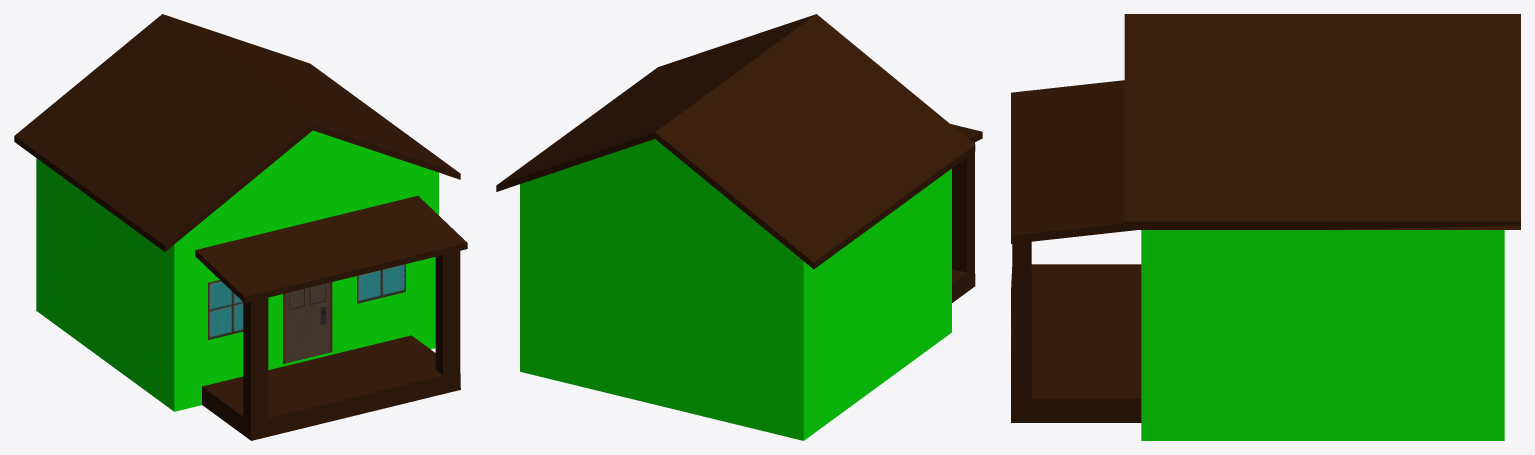
Rendered from 1FloorHouse.obj.
3 renders of one model, left to right at view 1: azimuth 30°, elevation 25°; view 2: azimuth 150°, elevation 25°; view 3: azimuth 270°, elevation 25°, orthographic. The views are drawn at different scales.
Parts seen in each view (by area): view 1: SP_TD_House; view 2: SP_TD_House; view 3: SP_TD_House.
Boxes of the visible parts, <box> form: SP_TD_House: <box>14,14,467,440</box>; SP_TD_House: <box>496,14,982,440</box>; SP_TD_House: <box>1011,14,1520,440</box>.
Bounding box in the file's own units: 8.38 × 7.04 × 9.5.
